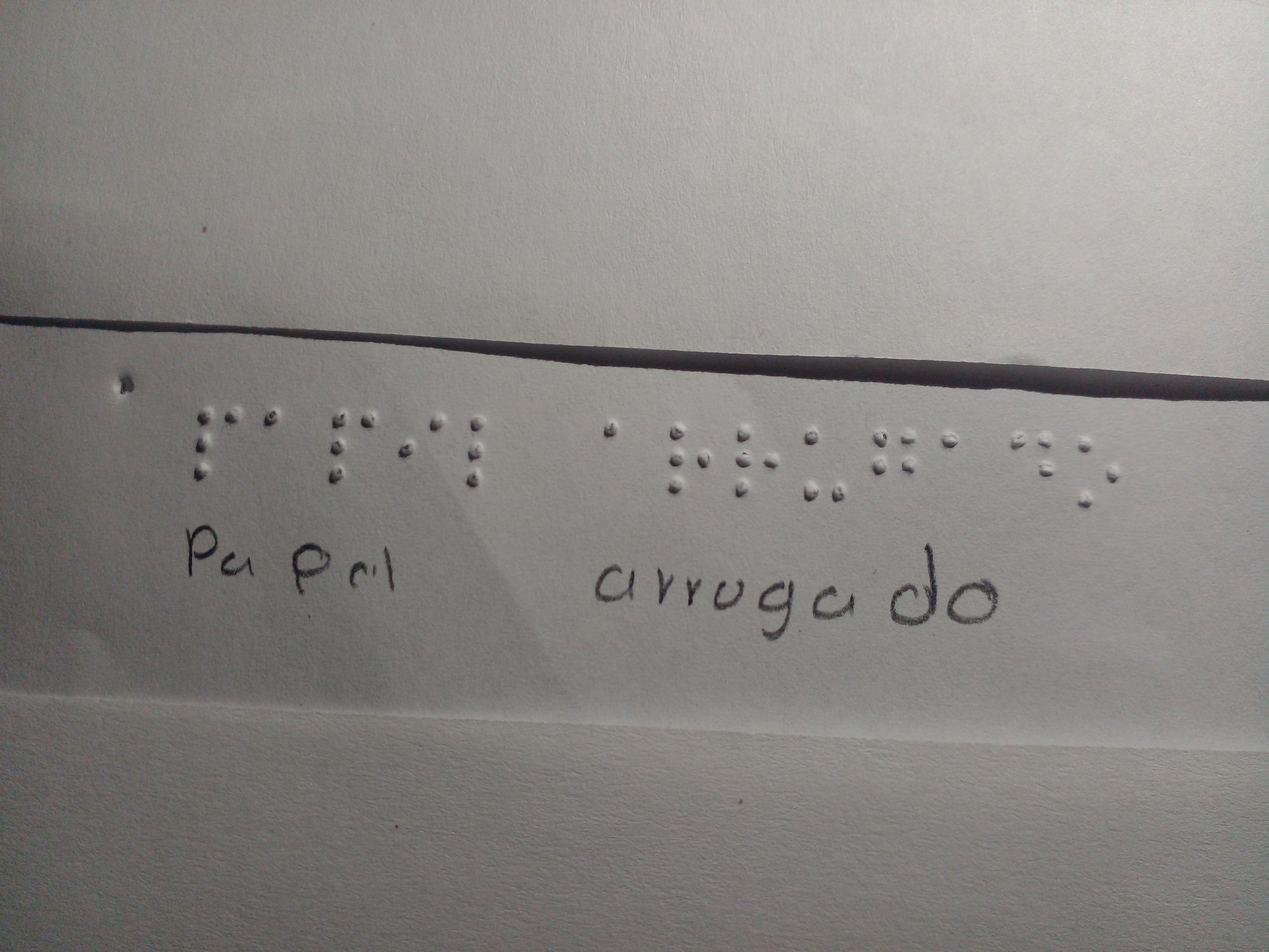a: (925, 411, 974, 474), (245, 390, 304, 442), (598, 408, 640, 456)
d: (1002, 417, 1061, 491)
e: (386, 386, 460, 469)
g: (872, 418, 922, 490)
l: (457, 406, 508, 504)
o: (1067, 428, 1123, 516)
p: (324, 392, 383, 491), (189, 387, 242, 493)
r: (727, 415, 785, 508), (660, 408, 716, 500)
u: (793, 415, 850, 508)
